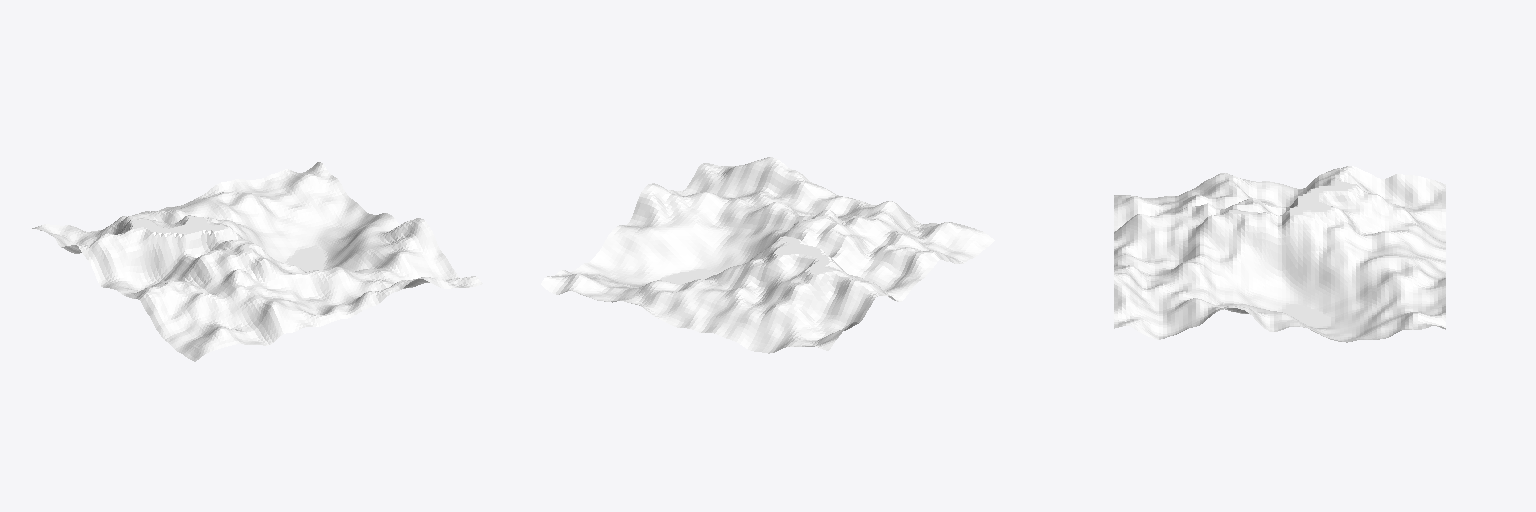
The model's file is landscape.obj.
3 views of the same model, side by side, from view 1: azimuth 30°, elevation 25°; view 2: azimuth 150°, elevation 25°; view 3: azimuth 270°, elevation 25° (orthographic).
Visible parts, largest first — view 1: Landscape; view 2: Landscape; view 3: Landscape.
Boxes of the visible parts, <box> form: Landscape: <box>32,162,482,361</box>; Landscape: <box>541,157,994,353</box>; Landscape: <box>1114,166,1445,342</box>.
Bounding box in the file's own units: 62.93 × 12.27 × 62.93.